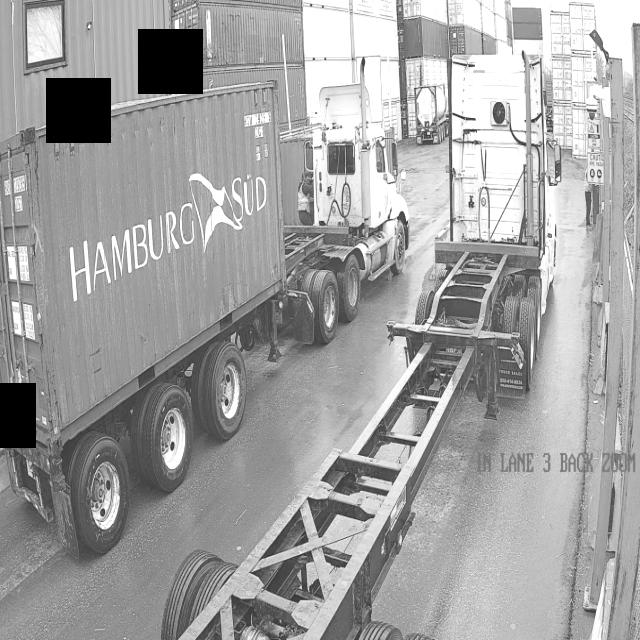container_company_logo: (65, 154, 271, 316)
truck_with_container: (0, 81, 410, 557)
truck_without_container: (160, 55, 561, 640)
